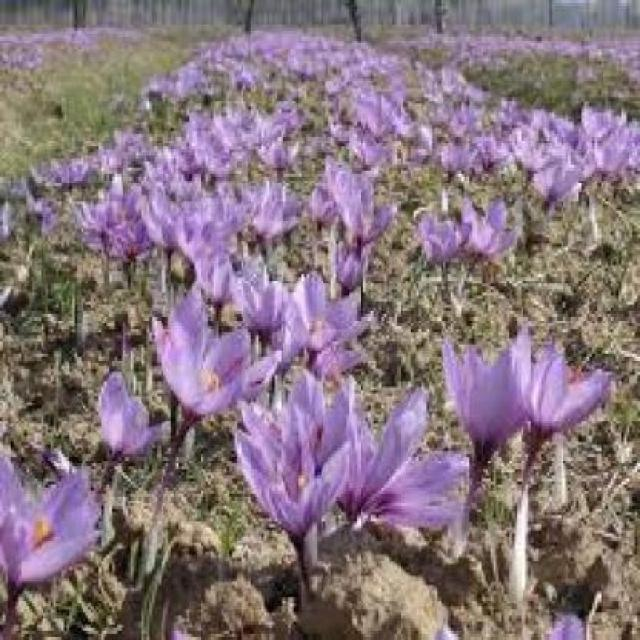saffron open: (506, 324, 612, 597), (154, 292, 280, 418), (1, 455, 99, 616), (236, 432, 344, 568), (442, 342, 525, 498), (100, 372, 165, 455)
